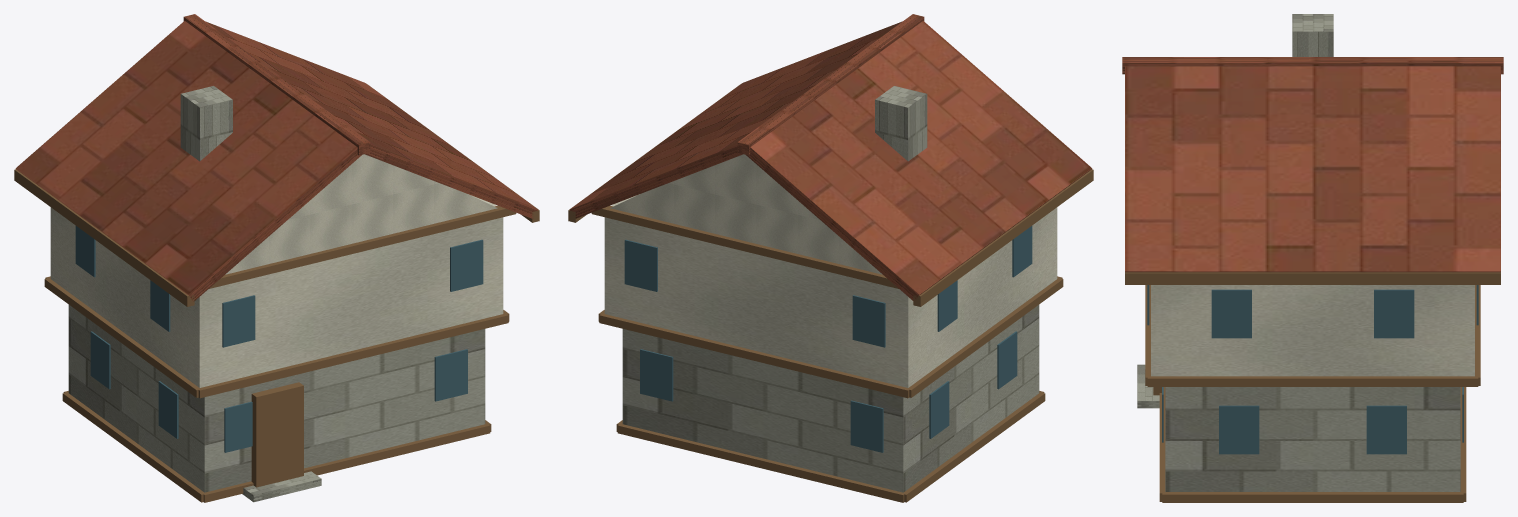
3 renders of one model, left to right at view 1: azimuth 30°, elevation 25°; view 2: azimuth 150°, elevation 25°; view 3: azimuth 270°, elevation 25°, orthographic. The views are drawn at different scales.
Parts seen in each view (by area): view 1: house-roof, house-plaster, house-stone, house-wood; view 2: house-roof, house-plaster, house-stone, house-wood; view 3: house-roof, house-stone, house-plaster, house-wood.
Boxes of the visible parts, x1,y1,x2,y2 form: house-roof: (15,14,538,301); house-plaster: (50,154,503,387); house-stone: (68,86,485,502); house-wood: (14,85,539,502); house-roof: (569,14,1092,301); house-plaster: (604,154,1057,387); house-stone: (622,86,1039,492); house-wood: (568,85,1093,502); house-roof: (1122,57,1503,272); house-stone: (1137,14,1460,491); house-plaster: (1151,285,1474,376); house-wood: (1125,272,1500,502).
Size of the model in its own units: 8.54 by 7.83 by 7.36.
4 materials, 3 textured.
